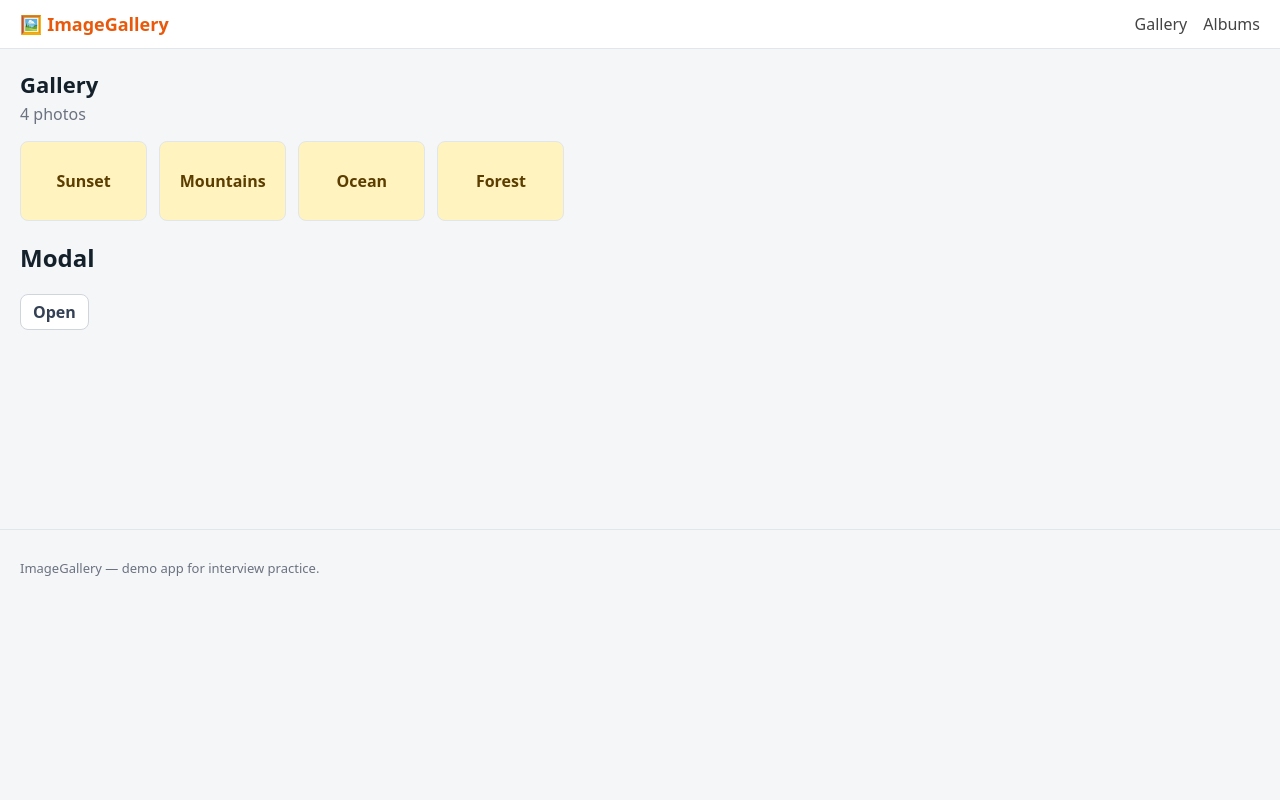
m03 · ImageGallery — app renders › navigates to the Albums route via the navbar
Click the link with test id "nav-albums" at (1232, 24), box [1203,13,1260,35]
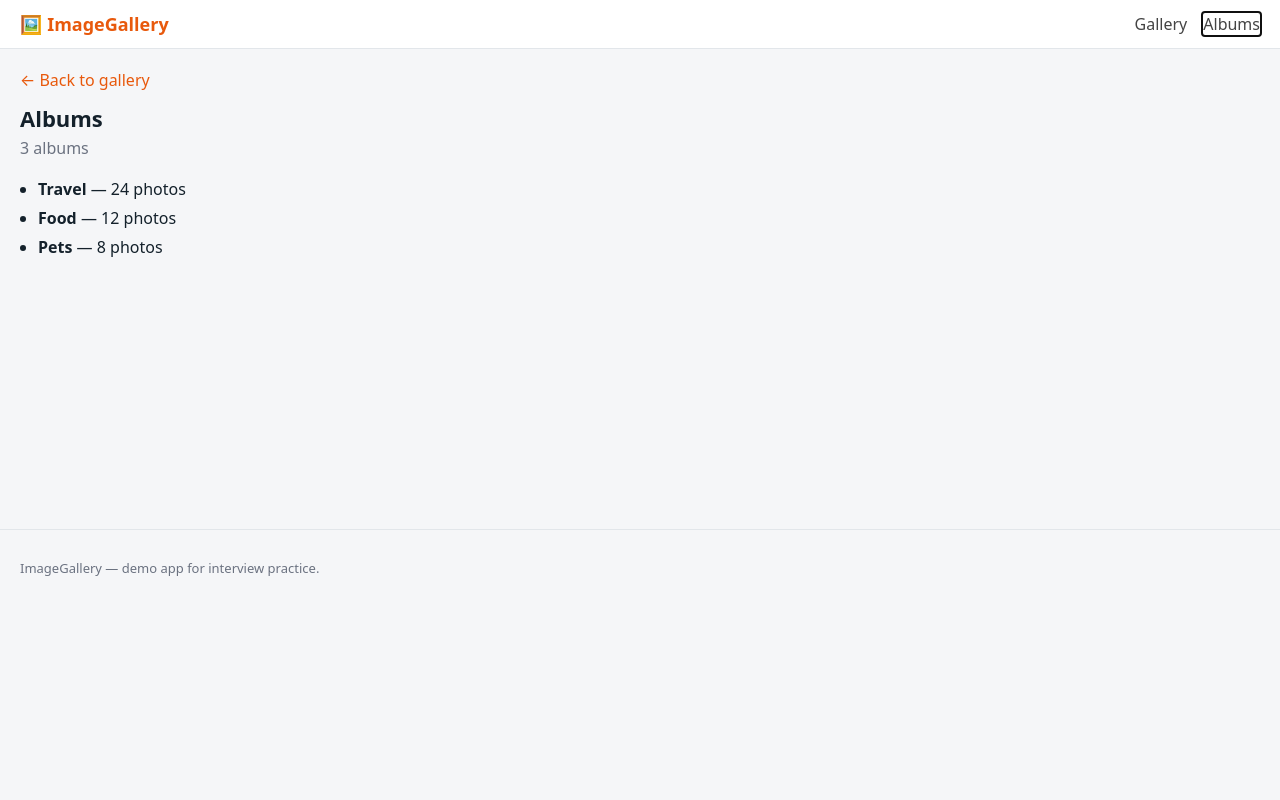
Now the element with test id "albums-page" is shown, box [20,69,186,258]
